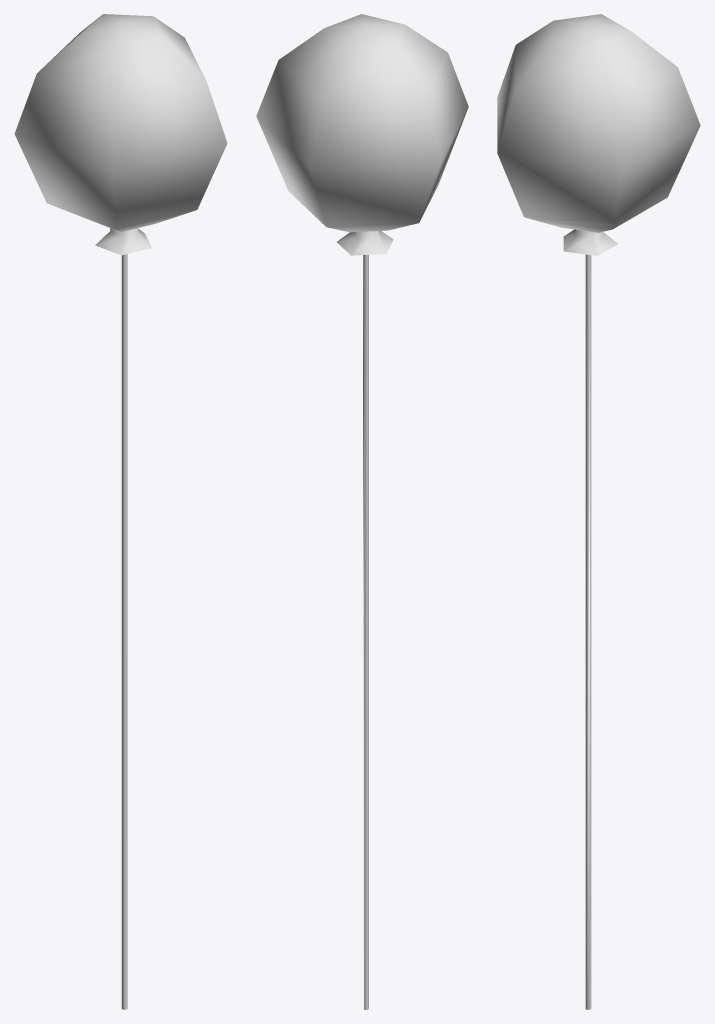
The model's file is baloon.fbx.
The picture shows the model from 3 angles, left to right: view 1: azimuth 30°, elevation 25°; view 2: azimuth 150°, elevation 25°; view 3: azimuth 270°, elevation 25°; orthographic projection.
Visible parts, largest first — view 1: Sphere; view 2: Sphere; view 3: Sphere.
Part boxes in pixels (box(x1,y1,x2,y2)): Sphere: box(14, 14, 227, 1009); Sphere: box(256, 14, 468, 1009); Sphere: box(497, 14, 700, 1009).
Size of the model in its own units: 190 by 967 by 181.
1 material, 1 textured.
